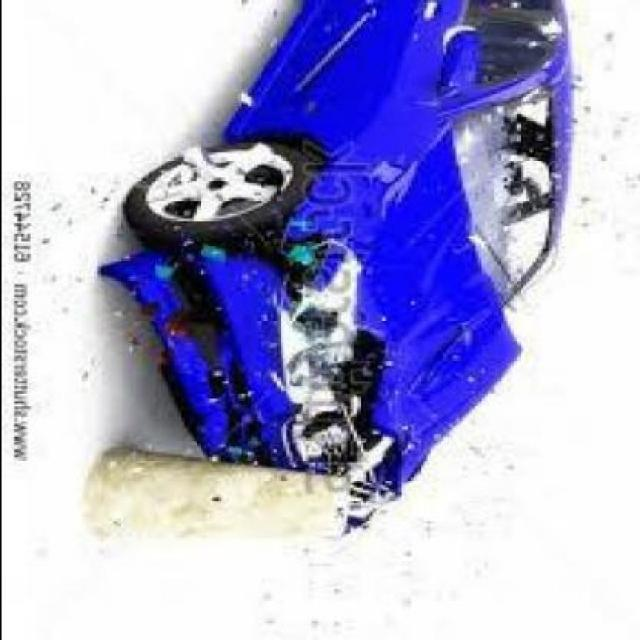damage: (124, 67, 548, 529)
